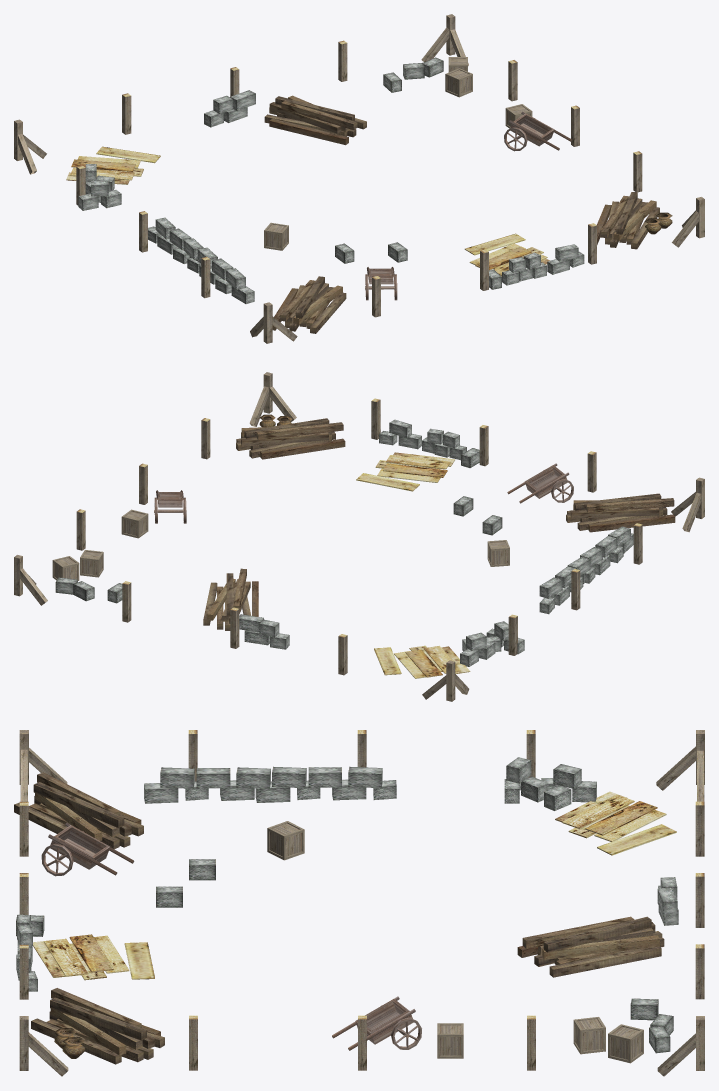
Rendered from fndn_8x8.glb.
3 views of the same model, one above another, from view 1: azimuth 30°, elevation 25°; view 2: azimuth 150°, elevation 25°; view 3: azimuth 270°, elevation 25° (orthographic). The views are drawn at different scales.
Parts seen in each view (by area): view 1: fndn_8x8_part3, fndn_8x8_part1, fndn_8x8_part2, fndn_8x8_part40, fndn_8x8_part32, fndn_8x8_part37, fndn_8x8_part41, fndn_8x8_part36, fndn_8x8_part5, fndn_8x8_part35, fndn_8x8_part33, fndn_8x8_part10 (+6 smaller); view 2: fndn_8x8_part2, fndn_8x8_part1, fndn_8x8_part41, fndn_8x8_part40, fndn_8x8_part3, fndn_8x8_part32, fndn_8x8_part37, fndn_8x8_part36, fndn_8x8_part4, fndn_8x8_part35, fndn_8x8_part13, fndn_8x8_part34 (+9 smaller); view 3: fndn_8x8_part3, fndn_8x8_part2, fndn_8x8_part1, fndn_8x8_part40, fndn_8x8_part41, fndn_8x8_part36, fndn_8x8_part37, fndn_8x8_part4, fndn_8x8_part5, fndn_8x8_part34, fndn_8x8_part33, fndn_8x8_part7 (+17 smaller).
Part boxes in pixels (box(x1,y1,x2,y2)): fndn_8x8_part3: box(264, 95, 366, 145); fndn_8x8_part1: box(272, 276, 346, 333); fndn_8x8_part2: box(597, 192, 659, 249); fndn_8x8_part40: box(66, 146, 160, 184); fndn_8x8_part32: box(502, 244, 584, 285); fndn_8x8_part37: box(187, 247, 254, 303); fndn_8x8_part41: box(464, 233, 549, 276); fndn_8x8_part36: box(148, 217, 203, 264); fndn_8x8_part5: box(504, 111, 572, 151); fndn_8x8_part35: box(204, 90, 255, 127); fndn_8x8_part33: box(78, 180, 121, 210); fndn_8x8_part10: box(421, 14, 468, 65); fndn_8x8_part2: box(236, 418, 345, 459); fndn_8x8_part1: box(566, 493, 675, 532); fndn_8x8_part41: box(356, 452, 455, 491); fndn_8x8_part40: box(374, 645, 470, 678); fndn_8x8_part3: box(203, 568, 258, 630); fndn_8x8_part32: box(379, 419, 466, 460); fndn_8x8_part37: box(580, 526, 633, 583); fndn_8x8_part36: box(539, 557, 593, 614); fndn_8x8_part4: box(507, 463, 573, 503); fndn_8x8_part35: box(239, 614, 289, 649); fndn_8x8_part13: box(249, 372, 296, 426); fndn_8x8_part34: box(460, 632, 495, 666); fndn_8x8_part3: box(517, 916, 664, 977); fndn_8x8_part2: box(31, 988, 164, 1064); fndn_8x8_part1: box(14, 772, 143, 849); fndn_8x8_part40: box(555, 791, 676, 855); fndn_8x8_part41: box(33, 934, 154, 980); fndn_8x8_part36: box(255, 766, 396, 802); fndn_8x8_part37: box(144, 767, 271, 803); fndn_8x8_part4: box(41, 822, 134, 876); fndn_8x8_part5: box(332, 996, 421, 1050); fndn_8x8_part34: box(541, 764, 596, 810); fndn_8x8_part33: box(504, 757, 547, 803); fndn_8x8_part7: box(267, 821, 304, 860).
Bounding box in the file's own units: 6.84 × 0.971 × 6.87.
Materials: 4 (4 with a texture image).
